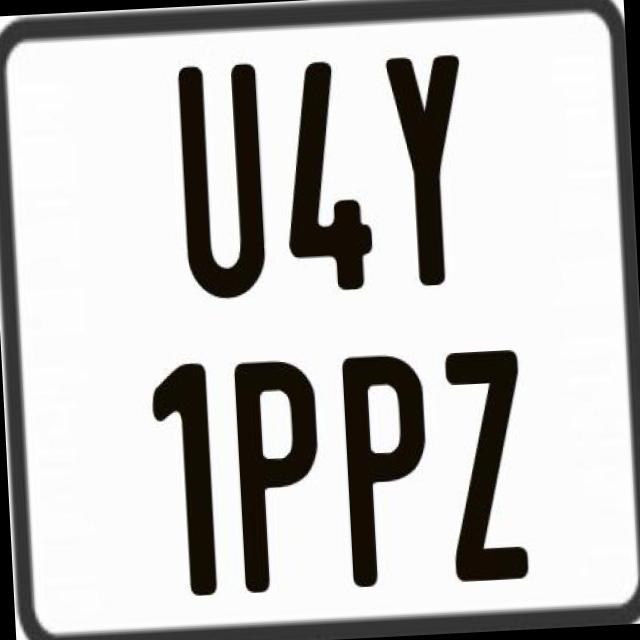1: (148, 363, 222, 601)
4: (277, 58, 375, 294)
P: (340, 353, 436, 589), (230, 359, 323, 598)
U: (177, 60, 273, 298)
Y: (386, 54, 478, 292)
Z: (442, 346, 534, 584)
